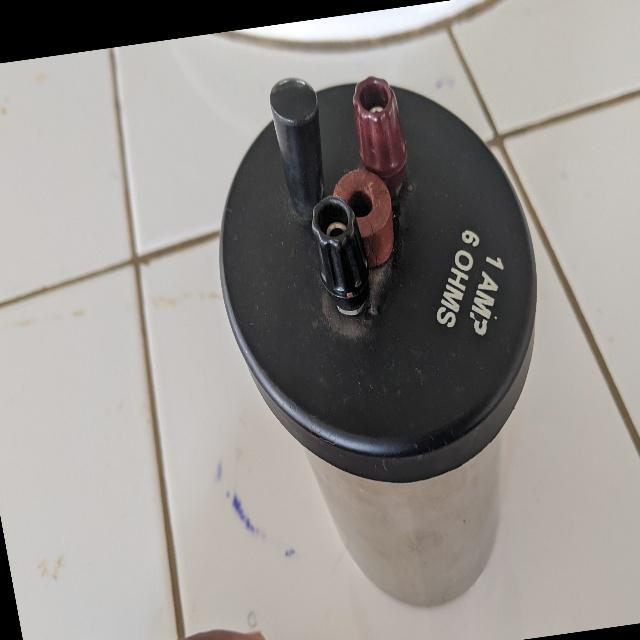Joule-s Calorimeter: (182, 32, 612, 638)
